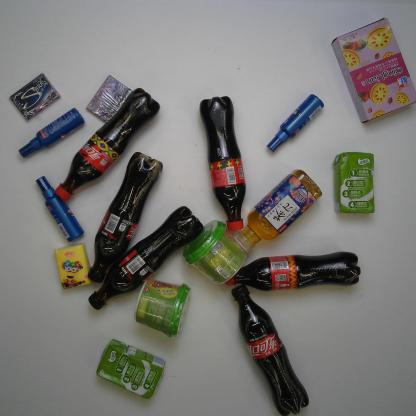Dessert: (330, 17, 416, 126)
Drink: (53, 88, 160, 201), (90, 205, 202, 309), (232, 284, 310, 414), (89, 152, 166, 282), (231, 168, 323, 254), (198, 95, 247, 231), (225, 253, 361, 289)
Gum: (87, 75, 135, 127), (10, 73, 61, 121)
Instant Drink: (182, 218, 247, 286), (130, 277, 194, 339)
Milk: (94, 339, 164, 398), (333, 148, 373, 218)
Personal Hygiene: (262, 94, 324, 152), (18, 107, 84, 159), (36, 177, 84, 243)
Tissue: (54, 244, 93, 291)
